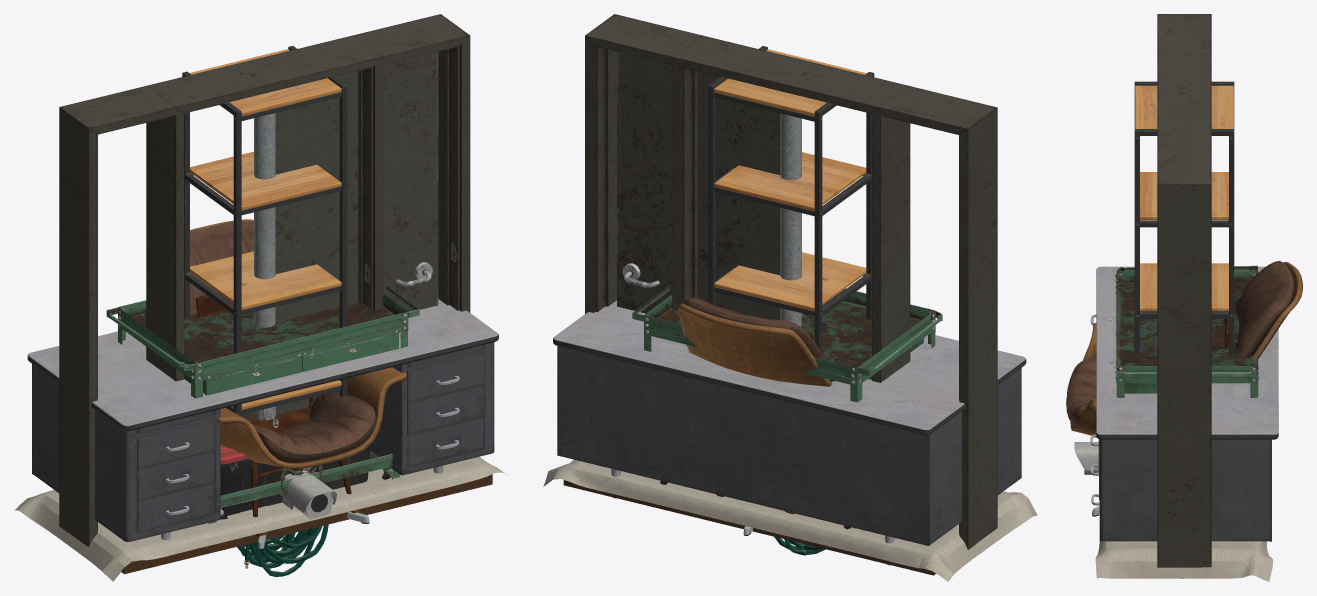
File: props1.glb
The picture shows the model from 3 angles, left to right: view 1: azimuth 30°, elevation 25°; view 2: azimuth 150°, elevation 25°; view 3: azimuth 270°, elevation 25°; orthographic projection. The views are drawn at different scales.
Parts seen in each view (by area): view 1: door.frame2, desk, door, door.frame, shelf, cart, chair, bag, tote, pad, desk.d4, desk.d1 (+9 smaller); view 2: desk, door.frame2, door, door.frame, shelf, bag, cart, chair, kp.200, pad, kp.140; view 3: door.frame2, desk, shelf, cart, chair, bag, door.frame, cam.head.
Boxes of the visible parts, x1,y1,x2,y2 form: door.frame2: (59, 14, 470, 547); desk: (27, 299, 498, 541); door: (275, 51, 438, 415); door.frame: (146, 35, 383, 381); shelf: (182, 46, 347, 416); cart: (106, 285, 419, 524); chair: (190, 219, 406, 549); bag: (15, 457, 506, 581); tote: (220, 444, 370, 515); pad: (121, 474, 492, 574); desk.d4: (137, 417, 215, 468); desk.d1: (407, 351, 485, 402); desk: (553, 300, 1026, 565); door.frame2: (585, 14, 997, 549); door: (617, 52, 780, 319); door.frame: (672, 35, 910, 382); shelf: (708, 46, 874, 353); bag: (543, 459, 1037, 581); cart: (632, 286, 942, 529); chair: (677, 298, 834, 535); kp.200: (780, 113, 801, 323); pad: (563, 480, 935, 575); kp.140: (780, 227, 801, 326); door.frame2: (1157, 14, 1211, 567); desk: (1096, 266, 1278, 541); shelf: (1134, 81, 1234, 354); cart: (1110, 265, 1259, 397); chair: (1066, 261, 1302, 516); bag: (1095, 540, 1273, 581); door.frame: (1157, 53, 1211, 145); cam.head: (1074, 442, 1098, 474).
Bounding box in the file's own units: 2.17 × 2.48 × 1.19.
Materials: 24 (23 with a texture image).
